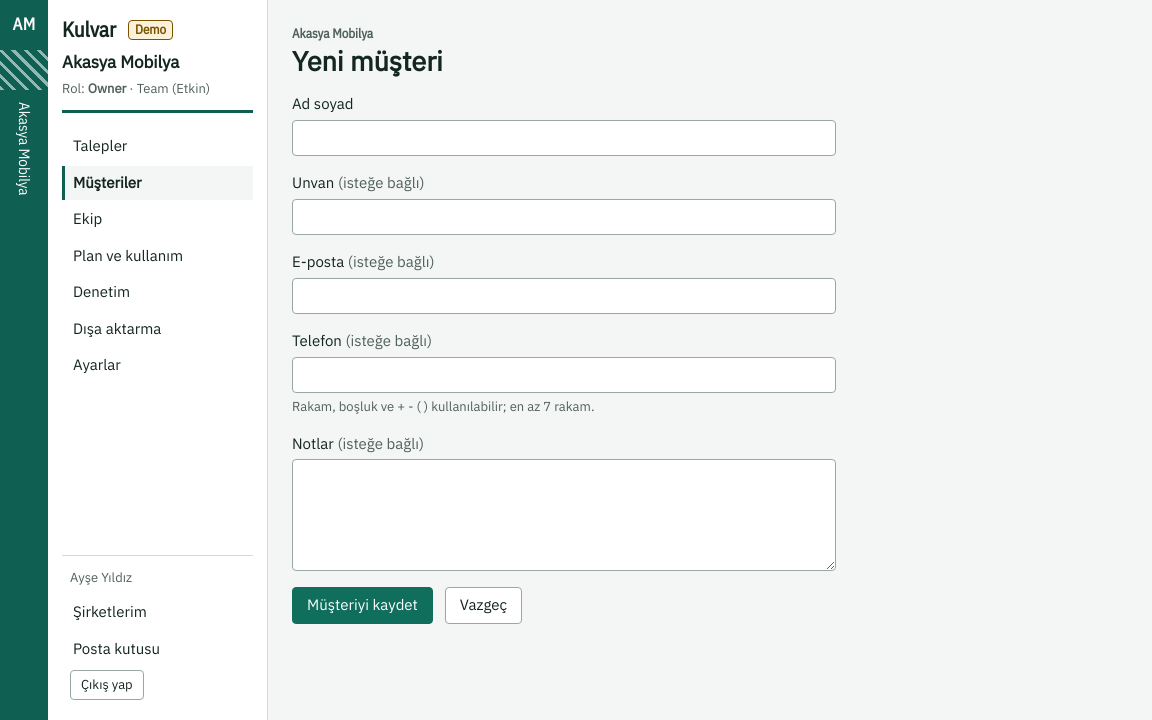
formlar › sunucu doğrulama hataları ilgili alana bağlanır
The image size is (1152, 720).
Step 1. Type "Elif Korkmaz" into the field labelled "Ad soyad" → {"x": 564, "y": 138}, box [292, 120, 836, 156]
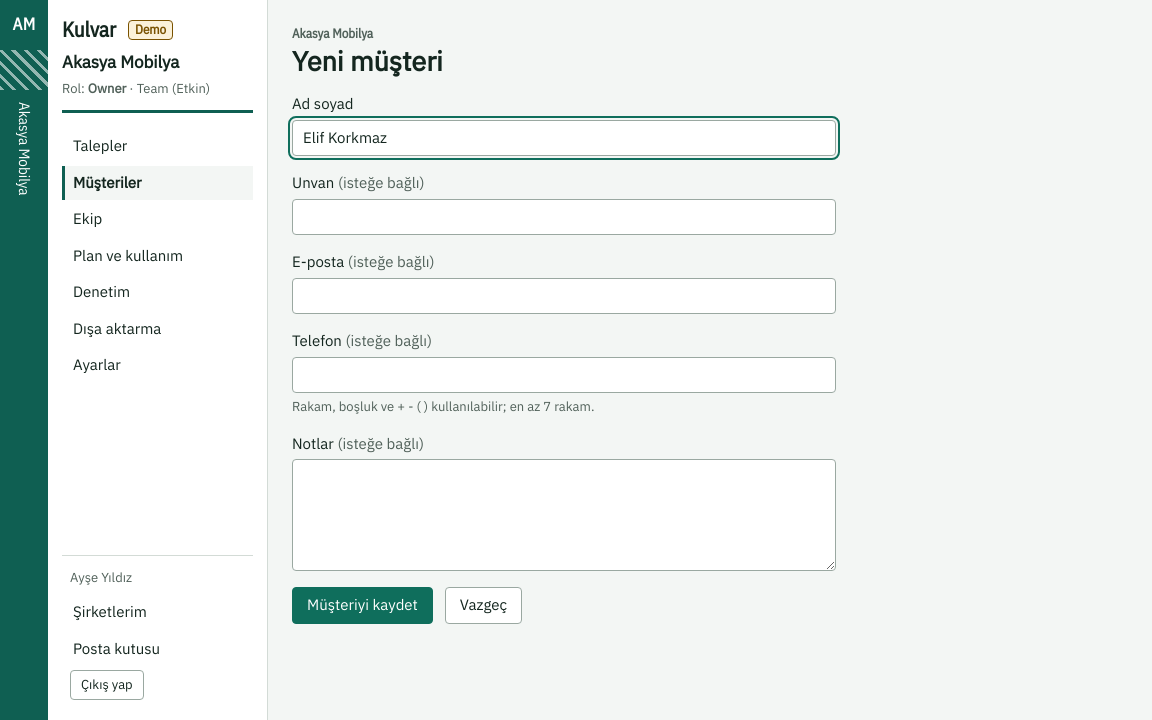
Step 2. Type "12" into the field labelled "Telefon (isteğe bağlı)" → {"x": 564, "y": 375}, box [292, 357, 836, 393]
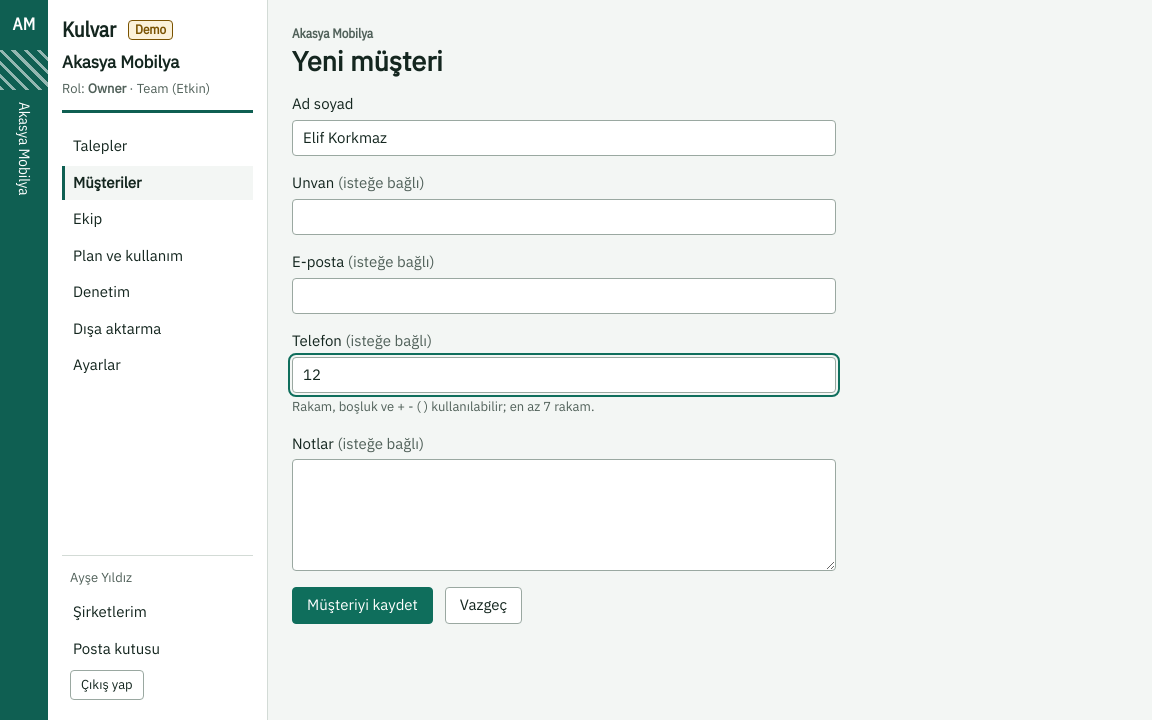
Step 3. Click the button "Müşteriyi kaydet" → {"x": 362, "y": 606}, box [292, 587, 433, 624]
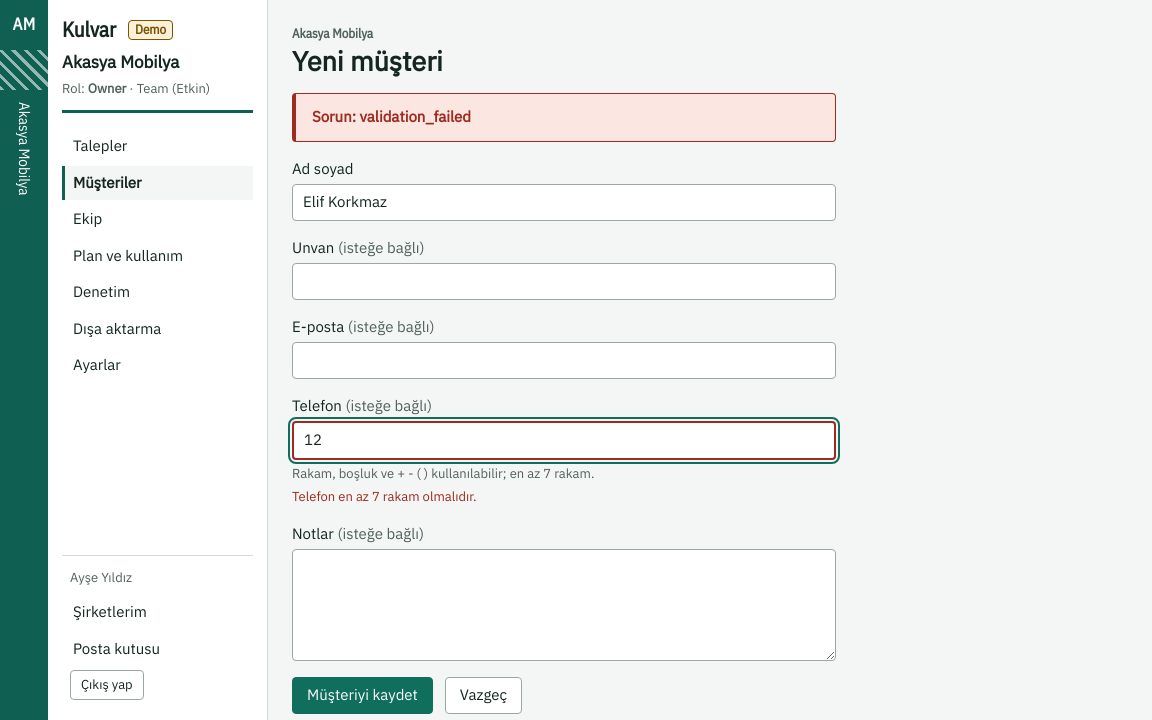
Check: the message "Sorun: validation_failed" is shown, box [292, 93, 836, 142]
